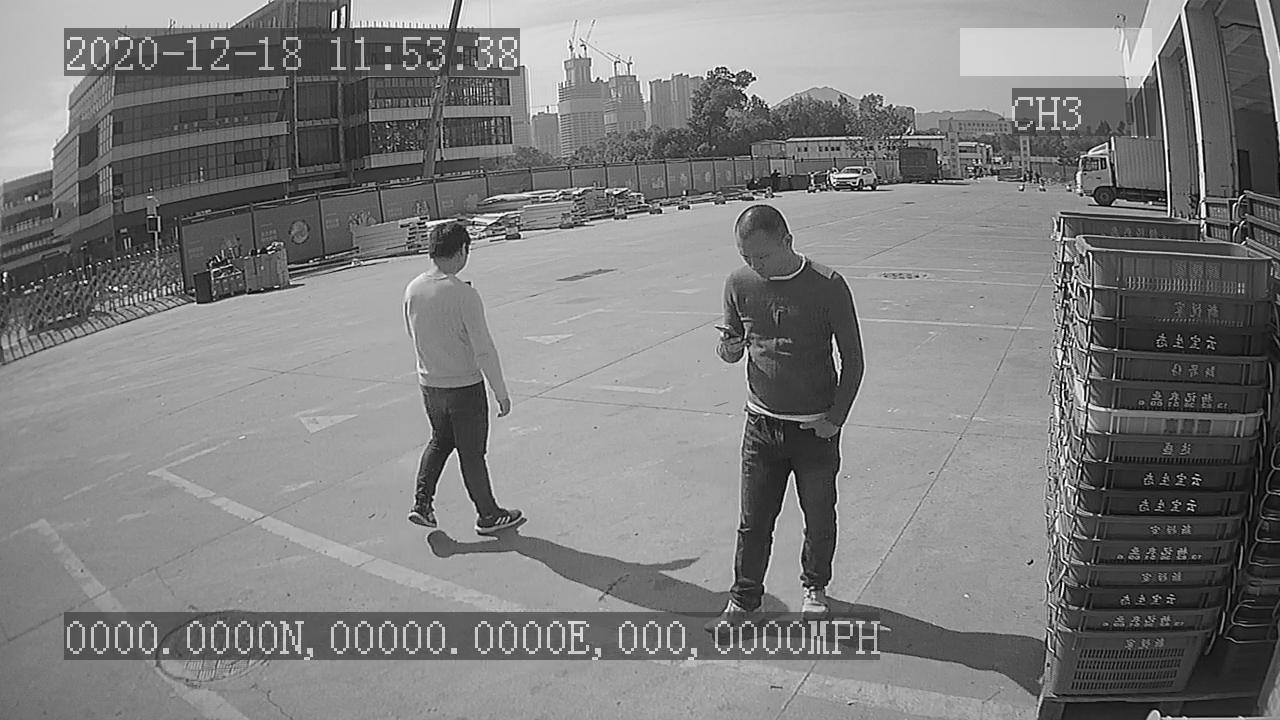person: (397, 211, 529, 547)
